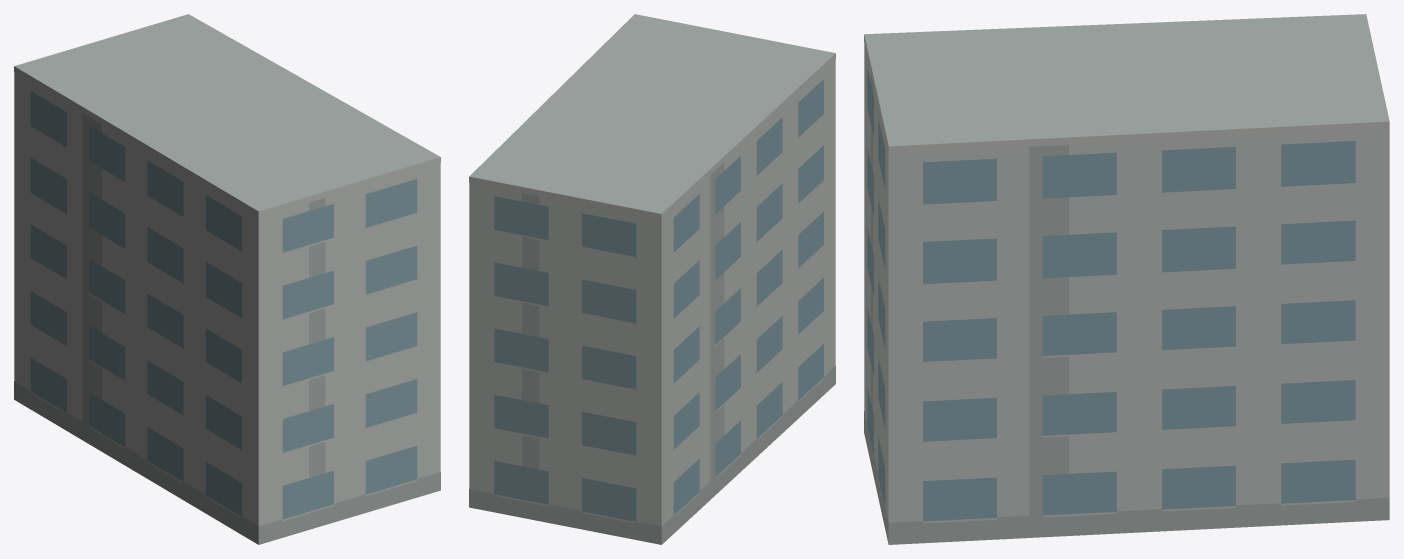
The model's file is survey-upis-32955727.glb.
3 views of the same model, side by side, from view 1: azimuth 30°, elevation 25°; view 2: azimuth 150°, elevation 25°; view 3: azimuth 270°, elevation 25° (orthographic). The views are drawn at different scales.
Parts seen in each view (by area): view 1: survey-upis-32955727.tmp; view 2: survey-upis-32955727.tmp; view 3: survey-upis-32955727.tmp.
Part boxes in pixels (bbox=[...]): survey-upis-32955727.tmp: bbox=[14, 14, 440, 544]; survey-upis-32955727.tmp: bbox=[469, 14, 835, 544]; survey-upis-32955727.tmp: bbox=[864, 14, 1389, 544].
Bounding box in the file's own units: 9.45 × 13.25 × 15.85.
